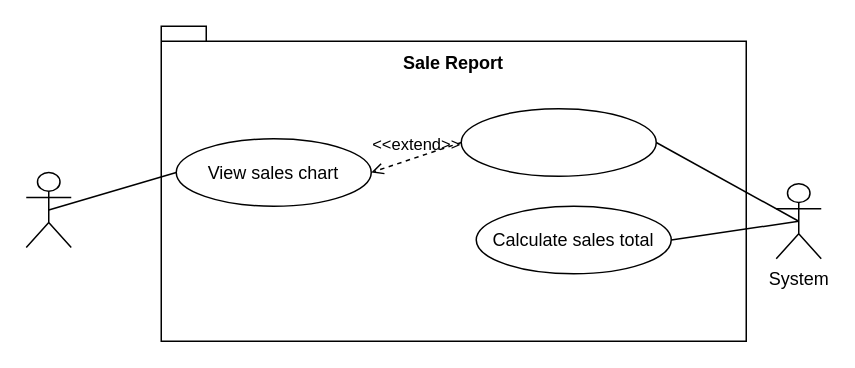
This 855x368 diagram has some shape labels left out. The shapes that lost their labels are listed below. From the top down, each one's centre as x and y in pixels, then its label:
At [558,141]: "Display sales information".
At [48,209]: "User".
